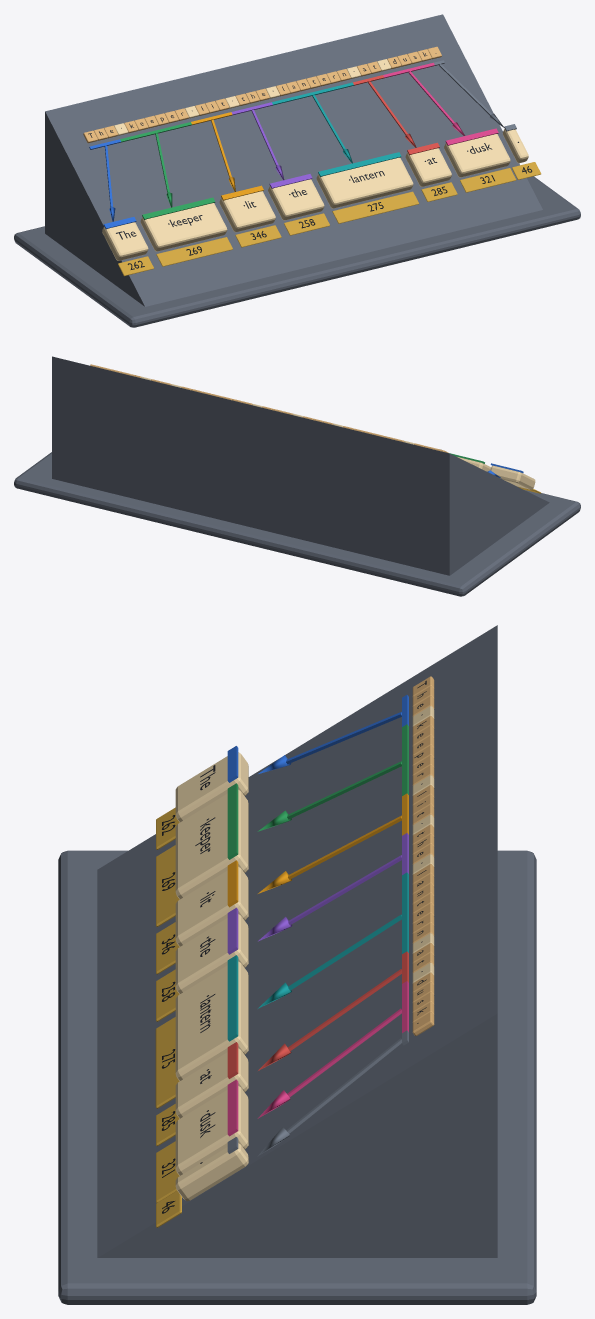
Rendered from encoder.glb.
The picture shows the model from 3 angles, top to bottom: view 1: azimuth 30°, elevation 25°; view 2: azimuth 150°, elevation 25°; view 3: azimuth 270°, elevation 25°; orthographic projection. The views are drawn at different scales.
Parts seen in each view (by area): view 1: slope, stand, tok4_b, tok1_b, tok6_b, tok2_b, tok3_b, tok4_id_p, tok5_b, tok0_b, tok1_id_p, tok6_id_p (+7 smaller); view 2: slope, stand, tok0_b; view 3: slope, stand, tok4_b, tok1_b, tok6_b, tok2_b, tok3_b, tok5_b, tok0_b, tok7_b, tok4_id_p, tok1_id_p (+11 smaller).
Boxes of the visible parts, bbox=[...] form: slope: bbox=[45, 14, 542, 306]; stand: bbox=[14, 176, 580, 327]; tok4_b: bbox=[316, 157, 413, 208]; tok1_b: bbox=[140, 203, 227, 251]; tok6_b: bbox=[444, 134, 510, 177]; tok2_b: bbox=[219, 191, 275, 232]; tok3_b: bbox=[268, 179, 324, 220]; tok4_id_p: bbox=[332, 191, 419, 223]; tok5_b: bbox=[405, 148, 451, 186]; tok0_b: bbox=[102, 222, 148, 260]; tok1_id_p: bbox=[156, 237, 232, 266]; tok6_id_p: bbox=[460, 168, 516, 192]; slope: bbox=[52, 356, 549, 575]; stand: bbox=[14, 452, 580, 596]; tok0_b: bbox=[490, 465, 535, 489]; slope: bbox=[97, 625, 497, 1257]; stand: bbox=[58, 850, 536, 1304]; tok4_b: bbox=[175, 961, 248, 1080]; tok1_b: bbox=[175, 789, 248, 899]; tok6_b: bbox=[175, 1086, 248, 1175]; tok2_b: bbox=[175, 866, 248, 946]; tok3_b: bbox=[175, 914, 248, 994]; tok5_b: bbox=[175, 1048, 248, 1118]; tok0_b: bbox=[175, 752, 248, 822]; tok7_b: bbox=[175, 1143, 248, 1201]; tok4_id_p: bbox=[155, 1017, 179, 1108]; tok1_id_p: bbox=[156, 845, 179, 926].
Size of the model in its own units: 1.34 by 0.3767 by 0.614.
